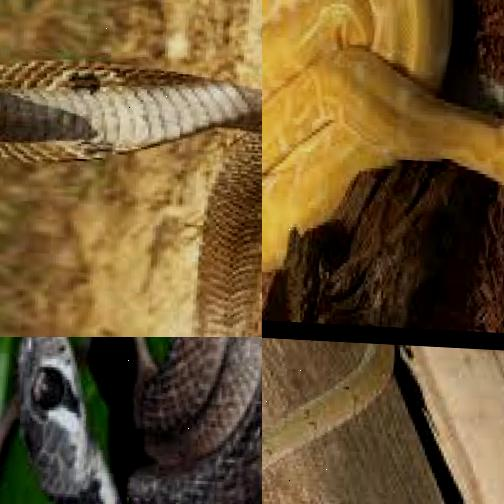1: (0, 0, 262, 337)
2: (0, 337, 262, 504)
5: (262, 337, 395, 504)
snake: (262, 0, 504, 309)
